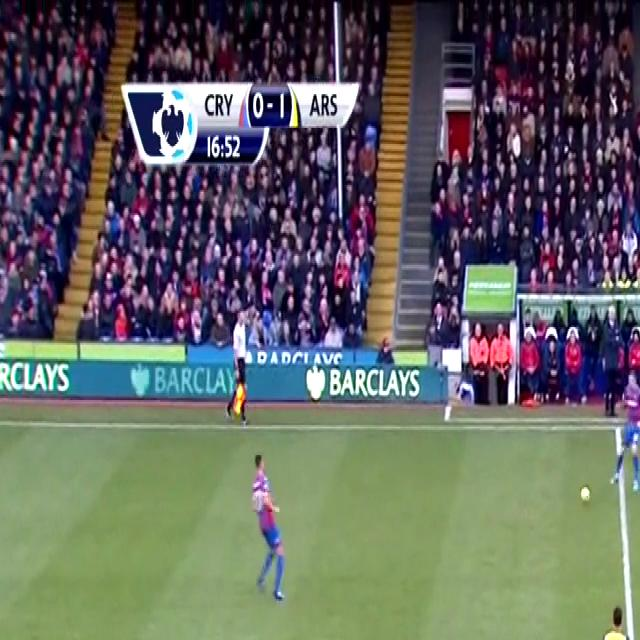ball: (574, 482, 596, 512)
soccer-player: (236, 449, 304, 612), (608, 400, 640, 496), (589, 608, 640, 640)
